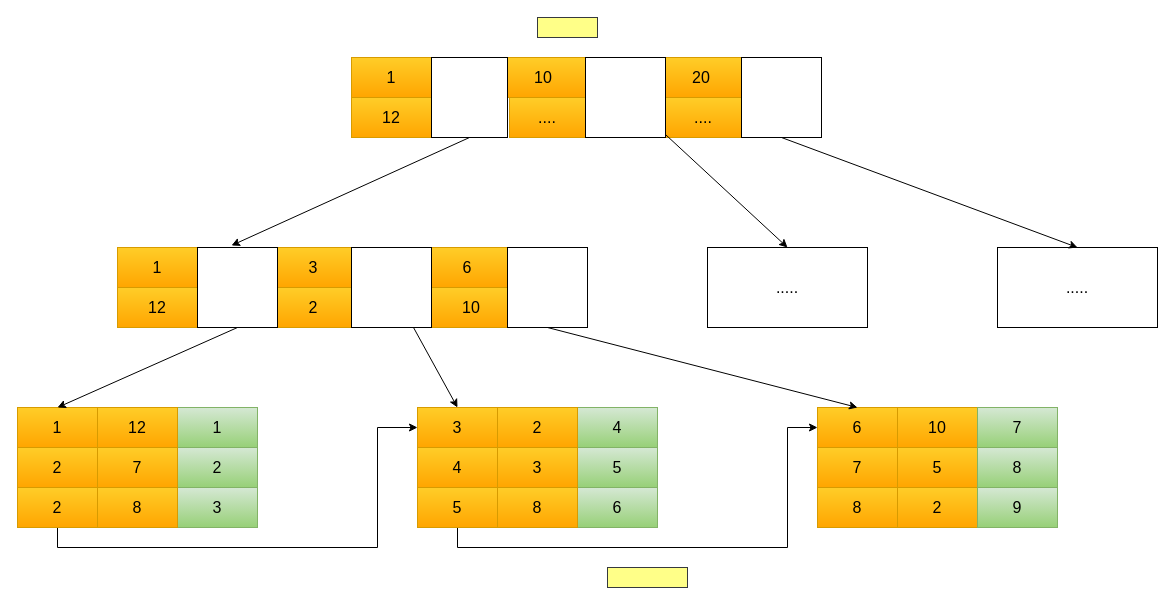
The diagram is 1175 pixels wide and 605 high, and some of its shapes have lost their labels. The box of each missing label's shape, as (x1, y1, x2, y2) in pixels:
叶子节点: (606, 566, 688, 588)
根节点: (536, 16, 598, 38)
